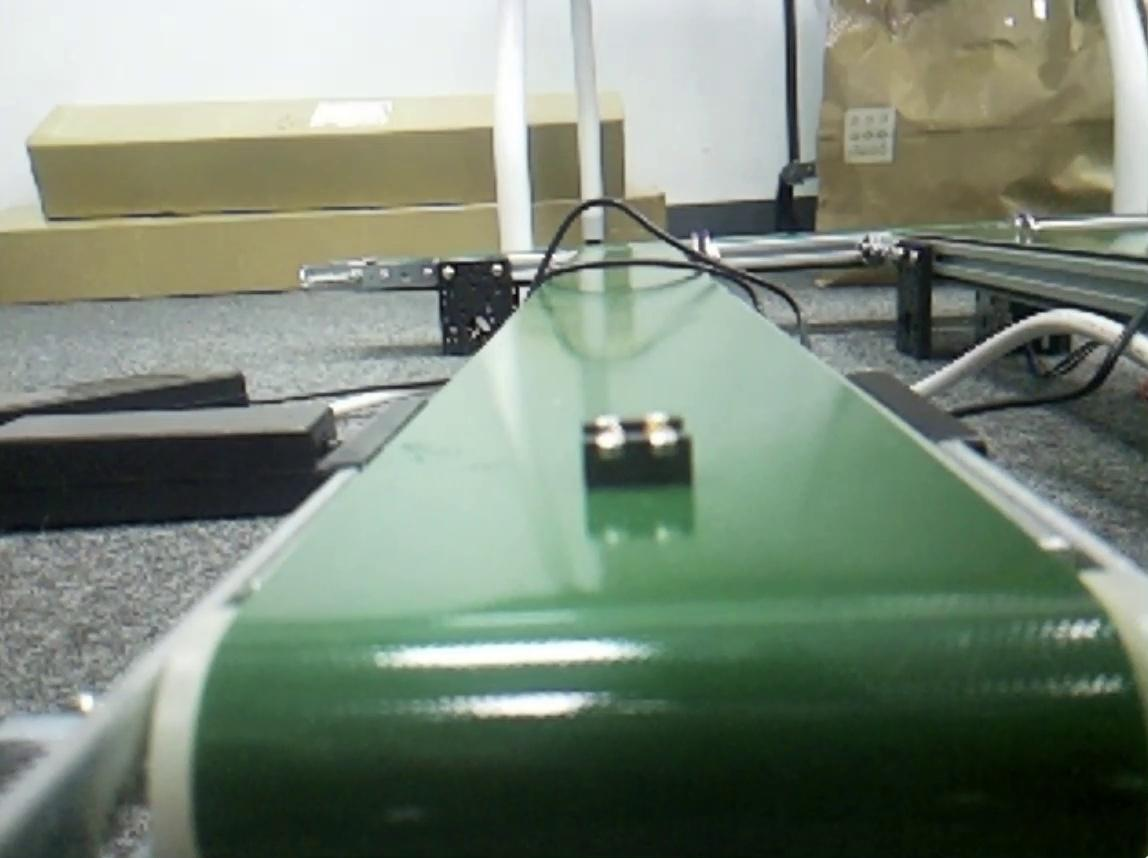inductor: (585, 417, 696, 491)
